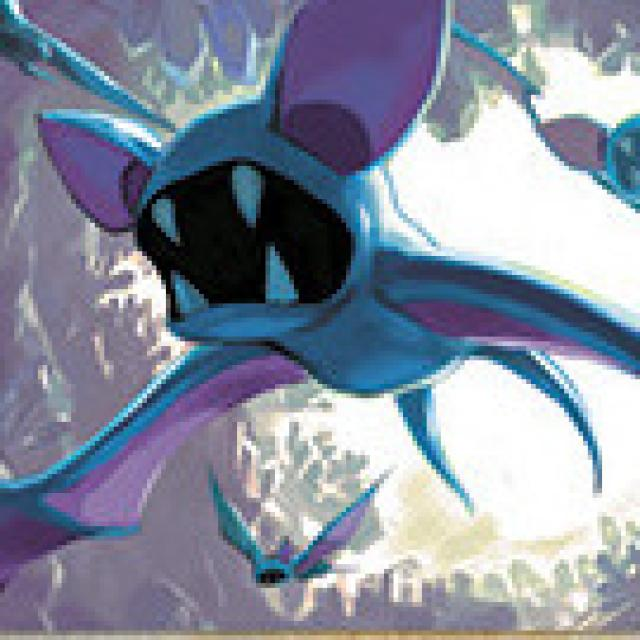Zubat: (68, 86, 511, 469)
